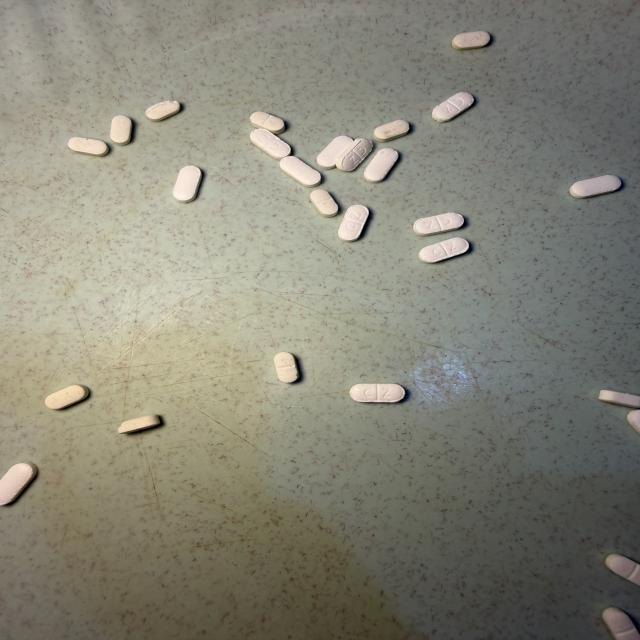pill: (0, 463, 37, 505), (250, 129, 291, 160), (280, 156, 321, 187), (432, 92, 474, 122), (419, 237, 469, 262), (317, 136, 353, 169), (570, 175, 621, 198), (364, 148, 398, 182), (603, 607, 639, 639), (336, 139, 372, 171), (413, 213, 464, 235), (338, 205, 369, 241), (173, 166, 201, 203), (45, 385, 88, 409), (606, 554, 639, 585), (350, 384, 405, 402), (145, 100, 181, 122), (118, 415, 161, 433), (374, 120, 409, 142), (250, 112, 285, 134), (68, 137, 108, 156), (310, 190, 338, 217), (274, 352, 299, 382), (599, 390, 639, 408), (452, 31, 490, 49), (110, 115, 132, 145), (628, 410, 639, 432)
